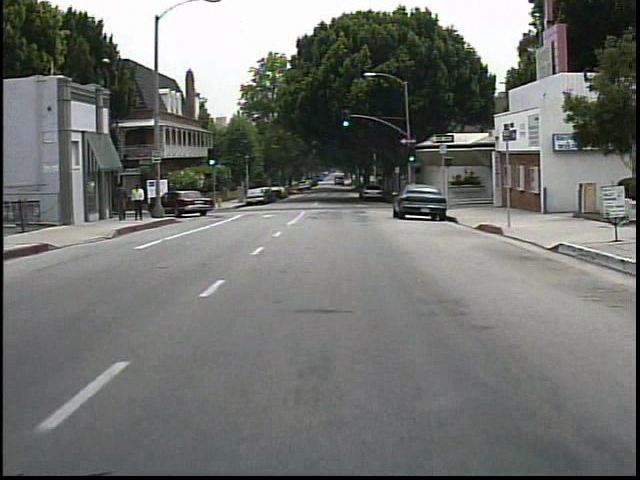person: (133, 182, 150, 223), (117, 182, 134, 223)
